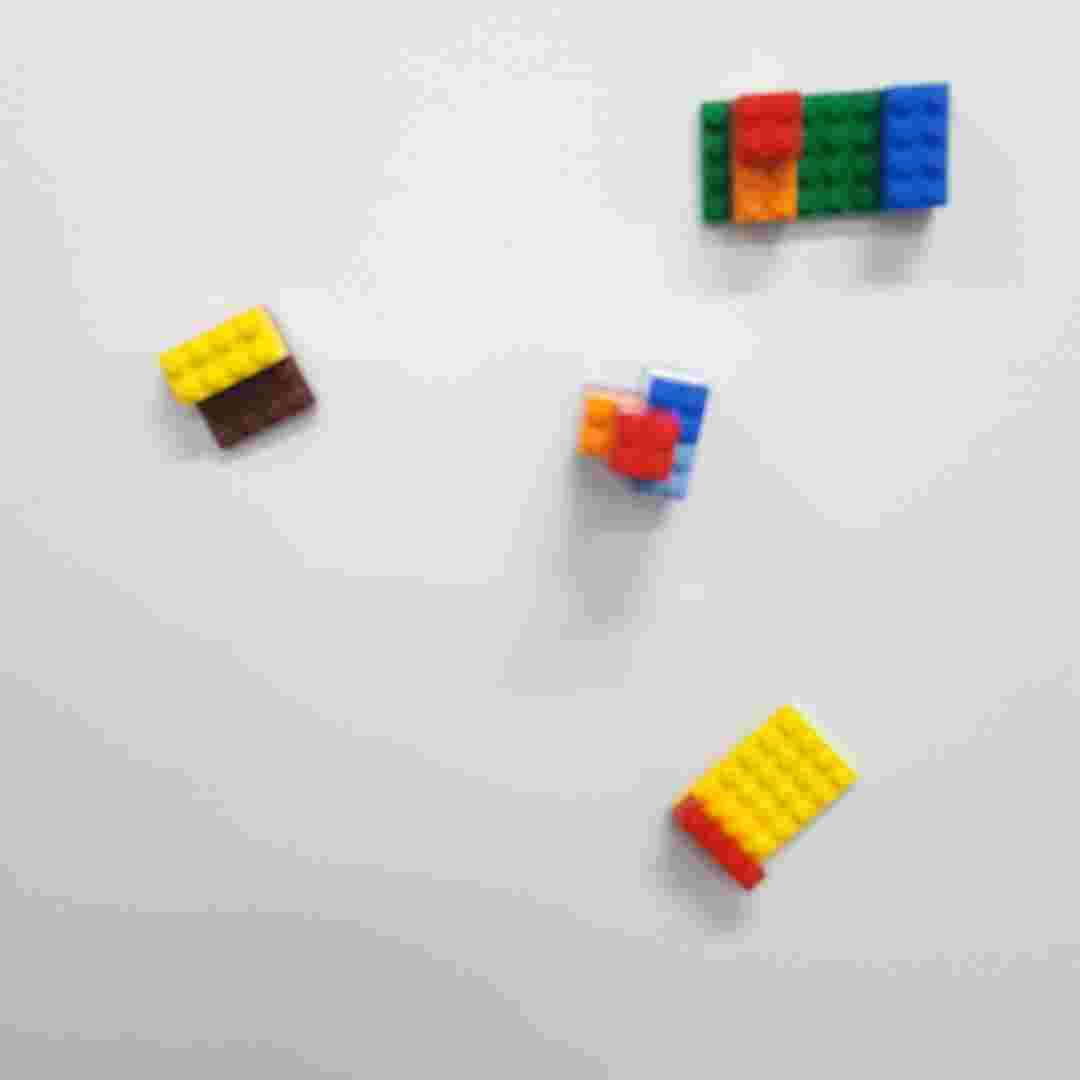LEGO: (695, 74, 957, 231), (662, 702, 862, 894), (156, 302, 322, 455), (572, 365, 712, 505)
